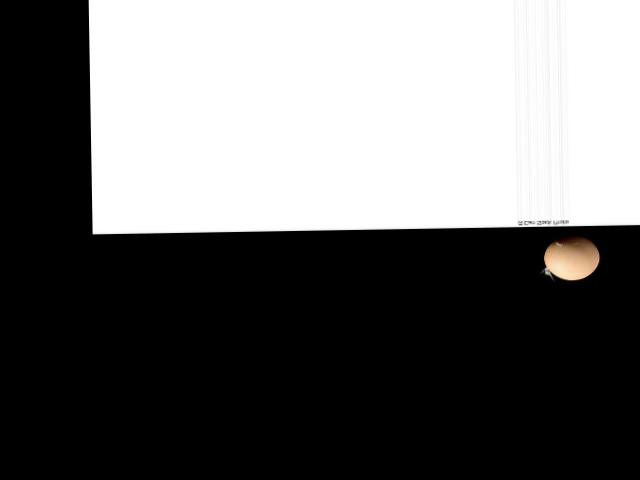egg: (544, 234, 600, 279)
